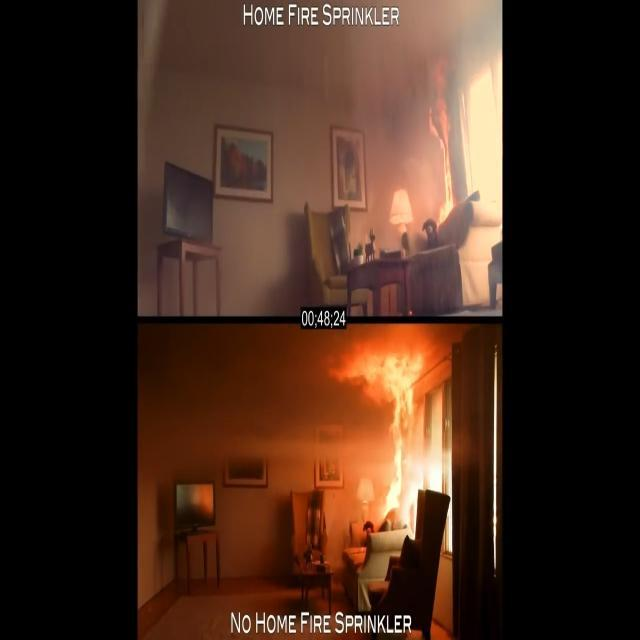Fire: (344, 330, 426, 502), (420, 44, 457, 215)
